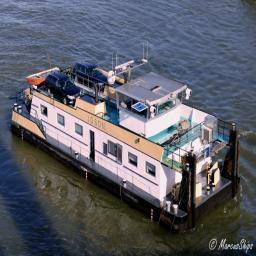tugboat: (10, 41, 245, 245)
